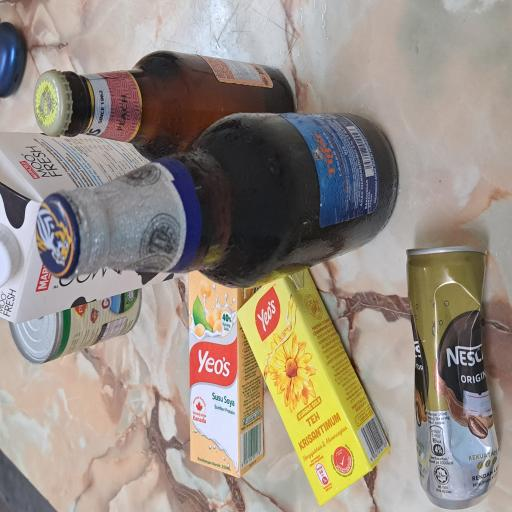can: (112, 12, 168, 190)
drink carton: (4, 316, 183, 512), (143, 0, 284, 226), (27, 252, 181, 352)
glass bottle: (167, 44, 299, 512), (262, 42, 347, 396)
